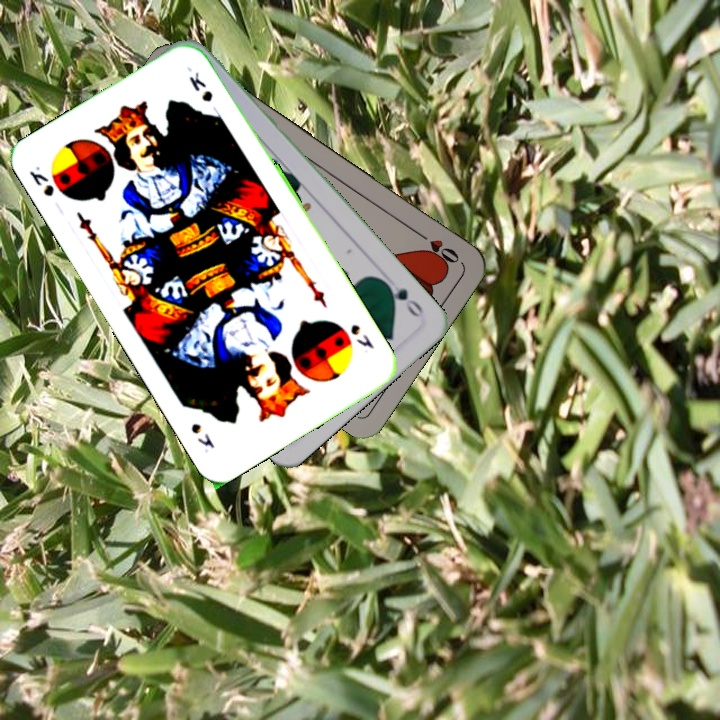GO: (379, 276, 426, 320)
HO: (411, 226, 462, 266)
SK: (25, 161, 57, 200), (346, 320, 377, 352)
